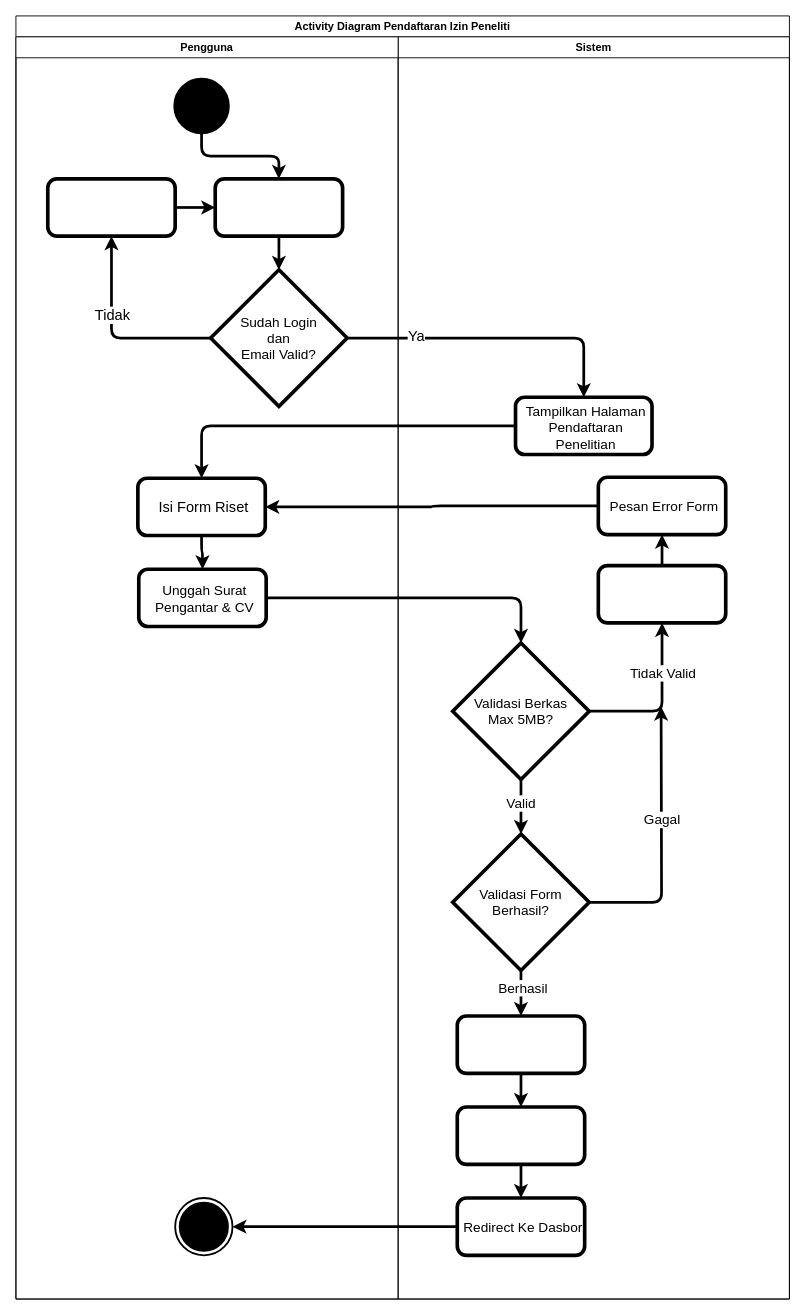
This 805x1315 diagram has some shape labels left out. The box of each missing label's shape, as (x1, y1, x2, y2) in pixels:
Akses Halaman Pendaftaran Penelitian: (214, 178, 343, 236)
Arahkan Ke Halaman Login: (47, 178, 175, 236)
Email Ke Admin: (456, 1106, 585, 1164)
Pesan Error Berkas: (597, 565, 726, 623)
Simpan Data Ke DB: (456, 1015, 585, 1073)
